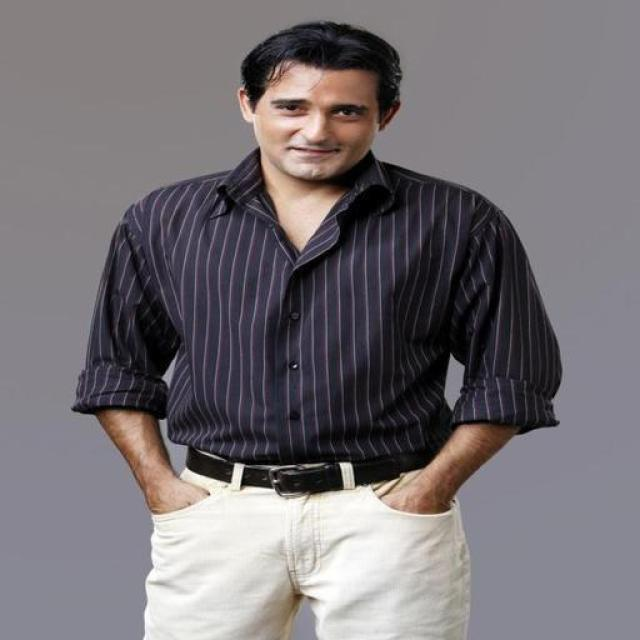bareface: (237, 16, 412, 179)
